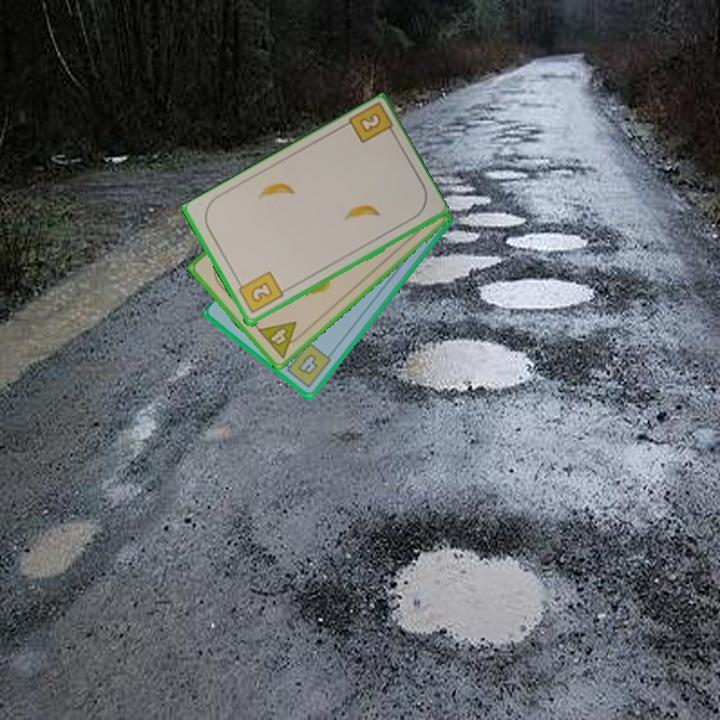2b: (234, 268, 286, 317), (344, 101, 399, 146)
4b: (279, 339, 334, 392)
4p: (254, 318, 308, 361)
